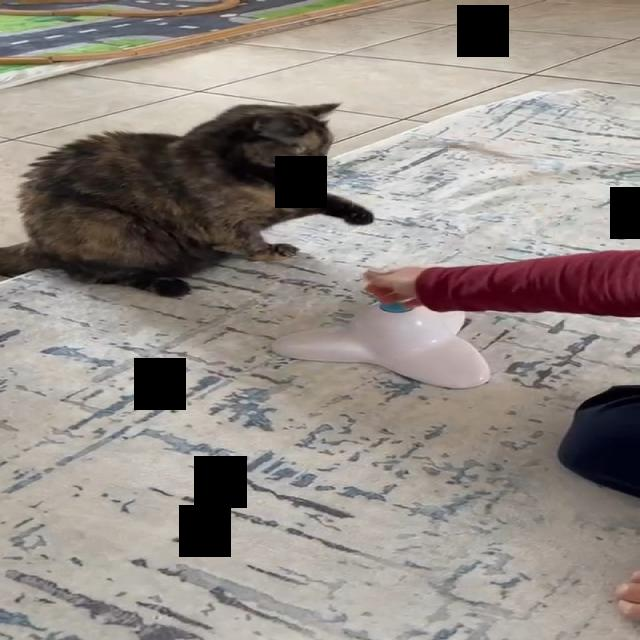authorized: (0, 101, 375, 298)
